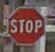stop: (6, 5, 44, 45)
